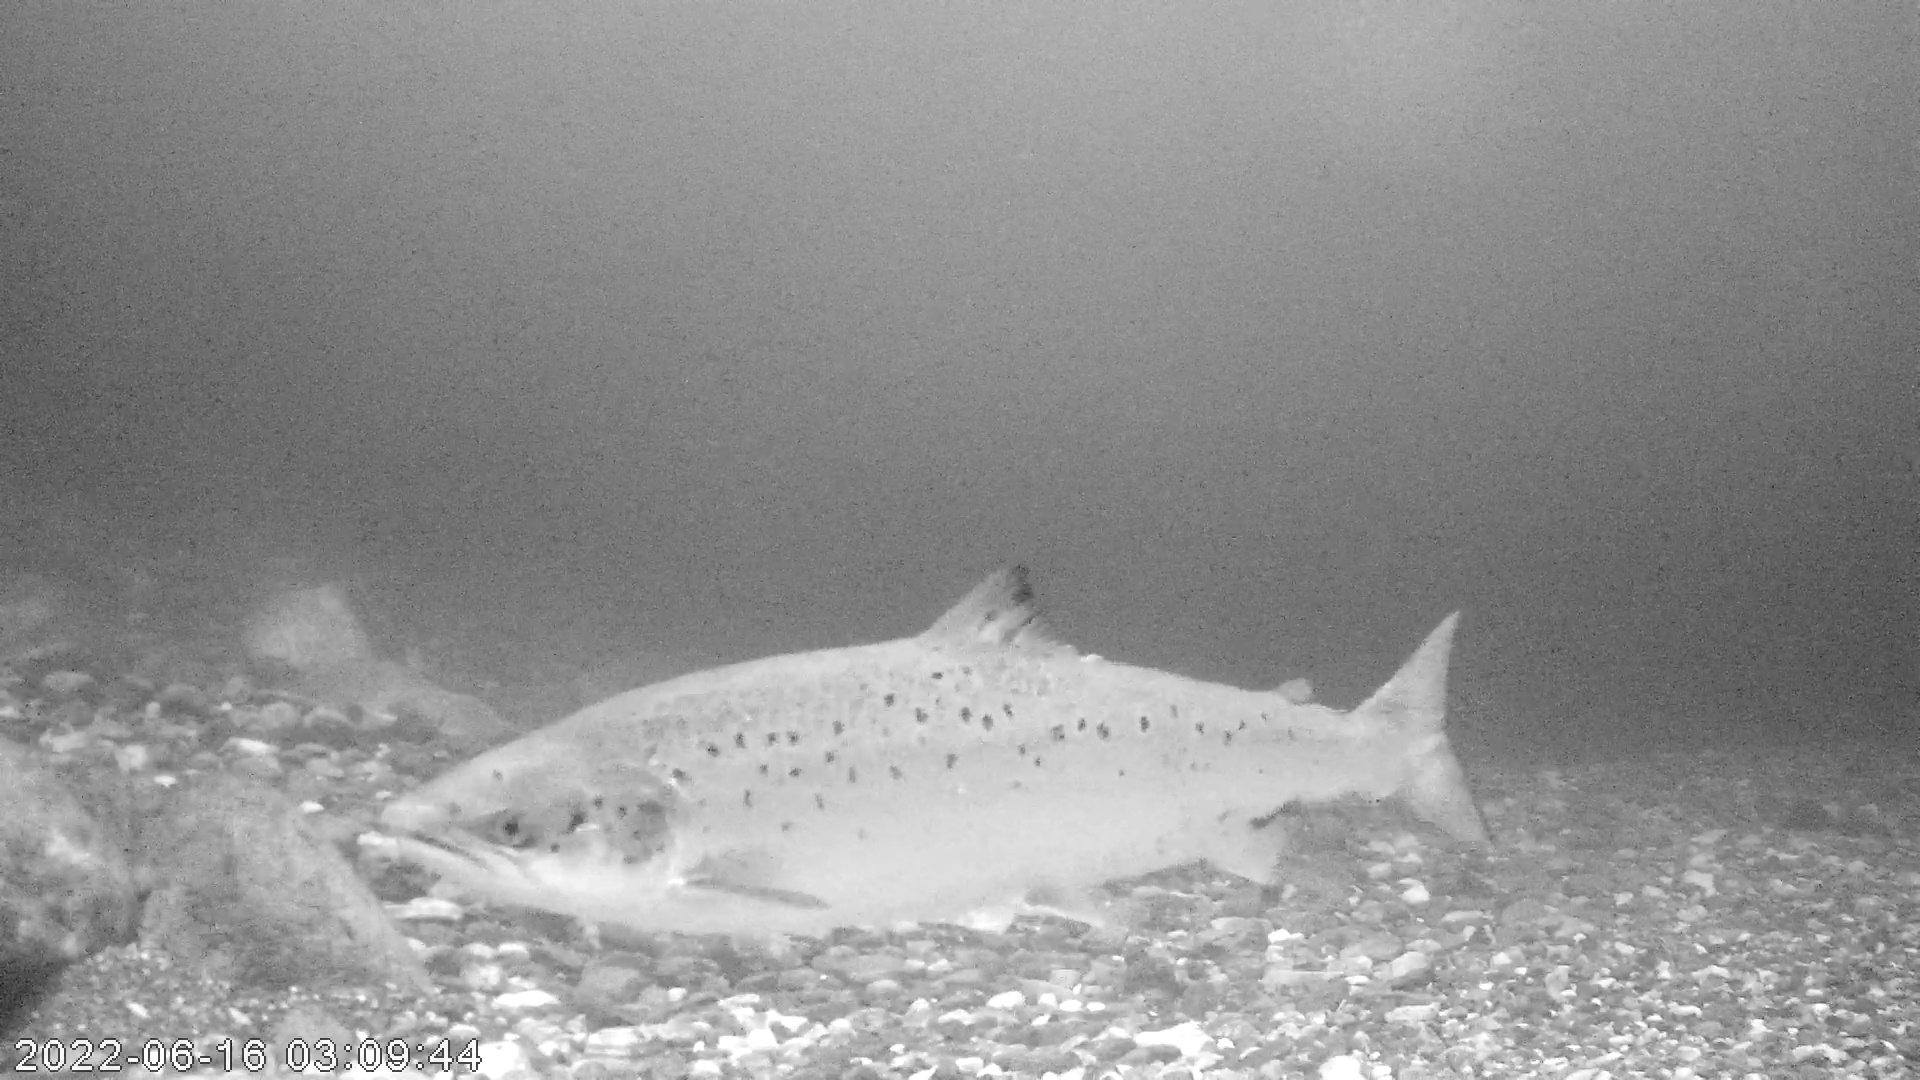salmon: (382, 556, 1495, 938)
